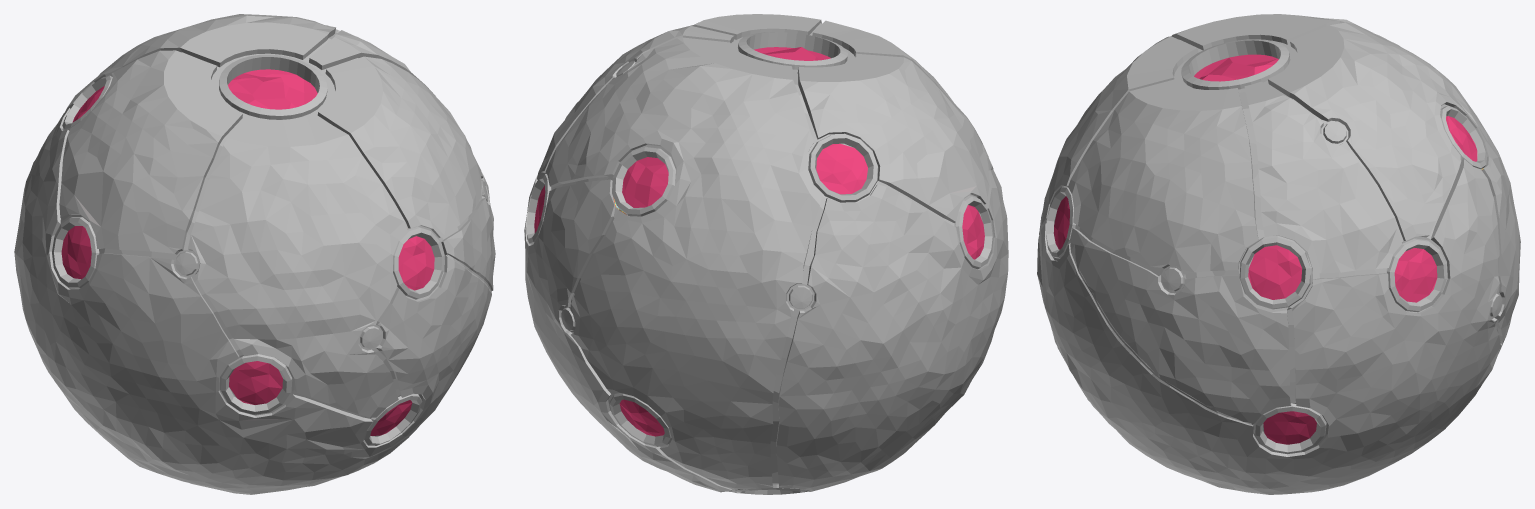
Rendered from Planet_7.glb.
3 views of the same model, side by side, from view 1: azimuth 30°, elevation 25°; view 2: azimuth 150°, elevation 25°; view 3: azimuth 270°, elevation 25° (orthographic).
Parts seen in each view (by area): view 1: Planet_7; view 2: Planet_7; view 3: Planet_7.
Part boxes in pixels (box(x1,y1,x2,y2)): Planet_7: box(14, 14, 495, 494); Planet_7: box(524, 14, 1008, 494); Planet_7: box(1037, 14, 1520, 494).
Bounding box in the file's own units: 20.01 × 19.5 × 20.07.
1 material, 1 textured.
